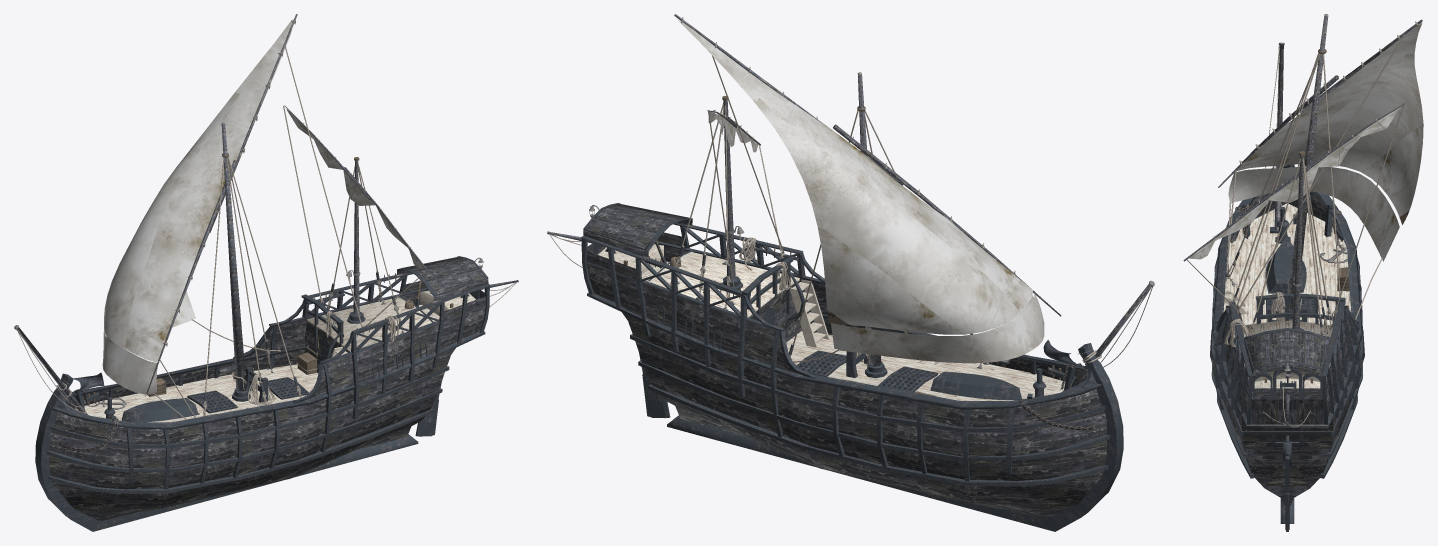
3 renders of one model, left to right at view 1: azimuth 30°, elevation 25°; view 2: azimuth 150°, elevation 25°; view 3: azimuth 270°, elevation 25°, orthographic. The views are drawn at different scales.
Parts seen in each view (by area): view 1: korpus lp, sail1, deck, balk longit lp, balk front lp, podokonnik, balk transv2 lp, korpus hide balka lp, Line003.009, mast_1 main, roof, balk transv1 lp (+11 smaller); view 2: korpus lp, sail1, balk longit lp, deck, balk front lp, podokonnik, balk transv2 lp, roof, balk transv1 lp, smal boat, trum 1, sail1 back (+12 smaller); view 3: sail1 back, korpus lp, deck, balk transv2 lp, podokonnik, roof, Line003.009, balk longit lp, sail2 back, rope.005, mast_1 main, smal boat (+16 smaller).
Part boxes in pixels (x1,y1,x2,y2): korpus lp: (49, 281, 485, 520); sail1: (102, 19, 292, 394); deck: (76, 290, 475, 422); balk longit lp: (46, 366, 449, 493); balk front lp: (35, 373, 418, 531); podokonnik: (53, 331, 485, 429); balk transv2 lp: (269, 275, 489, 452); korpus hide balka lp: (66, 319, 306, 413); Line003.009: (153, 45, 362, 419); mast_1 main: (221, 122, 246, 391); roof: (397, 257, 488, 302); balk transv1 lp: (81, 365, 279, 489); korpus lp: (586, 232, 1106, 518); sail1: (681, 21, 1044, 363); balk longit lp: (630, 334, 1110, 485); deck: (598, 244, 1065, 400); balk front lp: (667, 343, 1123, 531); podokonnik: (587, 292, 1102, 409); balk transv2 lp: (581, 226, 843, 437); roof: (583, 204, 692, 258); balk transv1 lp: (832, 360, 1068, 481); smal boat: (930, 371, 1022, 400); trum 1: (796, 350, 937, 392); sail1 back: (677, 19, 1033, 349); sail1 back: (1229, 23, 1423, 261); korpus lp: (1213, 319, 1361, 508); deck: (1223, 203, 1350, 398); balk transv2 lp: (1214, 306, 1360, 424); podokonnik: (1212, 192, 1362, 428); roof: (1244, 330, 1330, 375); Line003.009: (1226, 34, 1404, 319); balk longit lp: (1211, 265, 1363, 478); sail2 back: (1189, 107, 1399, 259); rope.005: (1187, 103, 1404, 317); mast_1 main: (1287, 14, 1328, 318); smal boat: (1265, 238, 1306, 293).
Bounding box in the file's own units: 22898 × 17709 × 8036.
Materials: 2 (2 with a texture image).
